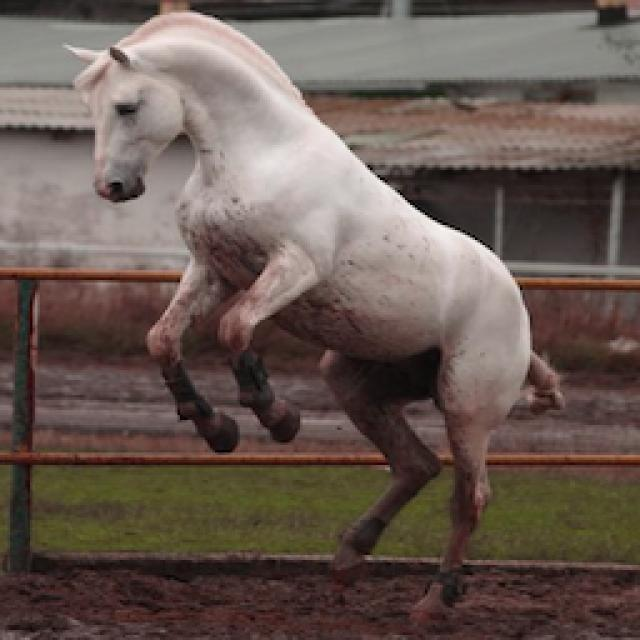Horse: (60, 5, 572, 630)
